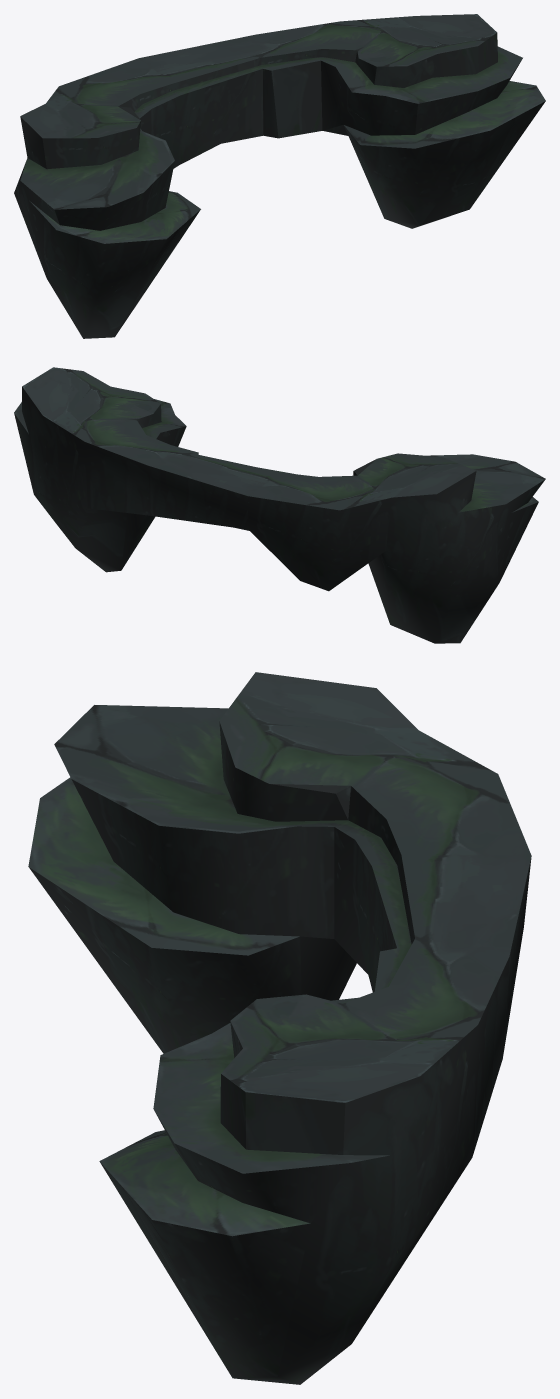
File: zhucheng_stone_02.FBX
3 renders of one model, top to bottom at view 1: azimuth 30°, elevation 25°; view 2: azimuth 150°, elevation 25°; view 3: azimuth 270°, elevation 25°, orthographic. The views are drawn at different scales.
Visible parts, largest first — view 1: zhucheng_stone_02; view 2: zhucheng_stone_02; view 3: zhucheng_stone_02.
Part boxes in pixels (box(x1,y1,x2,y2)): zhucheng_stone_02: box(14, 14, 545, 338); zhucheng_stone_02: box(14, 367, 545, 643); zhucheng_stone_02: box(28, 672, 531, 1384).
Bounding box in the file's own units: 12166 × 4546 × 5428.
